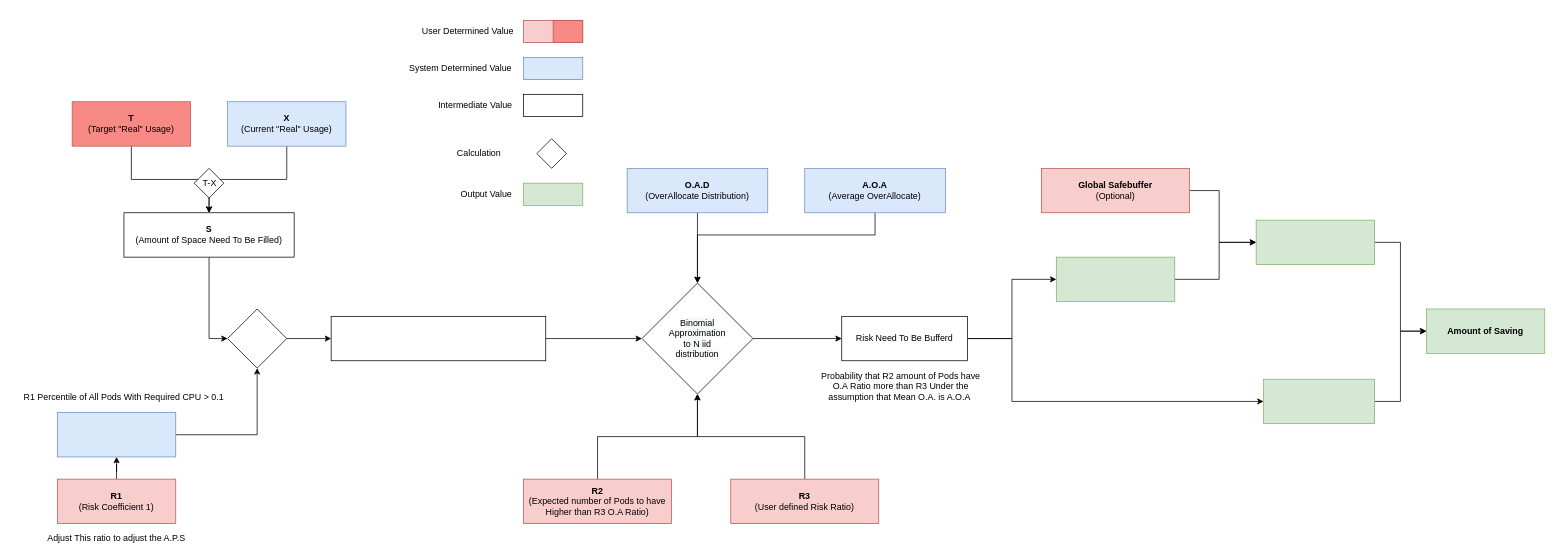
The diagram is 1558 pixels wide and 558 high, and some of its shapes have lost their labels. The centre of each missing label's shape, as x and y in pixels:
A.P.S. (Average Pod Size): point (116, 434)
N (Approximate Number of Pods could be accepted): point (438, 338)
Risk (Risk that Are Not Covered by Safebuffer): point (1319, 401)
S / A.P.S: point (257, 338)
Safebuffer: point (1315, 242)
Suggested Safebuffer: point (1115, 279)
